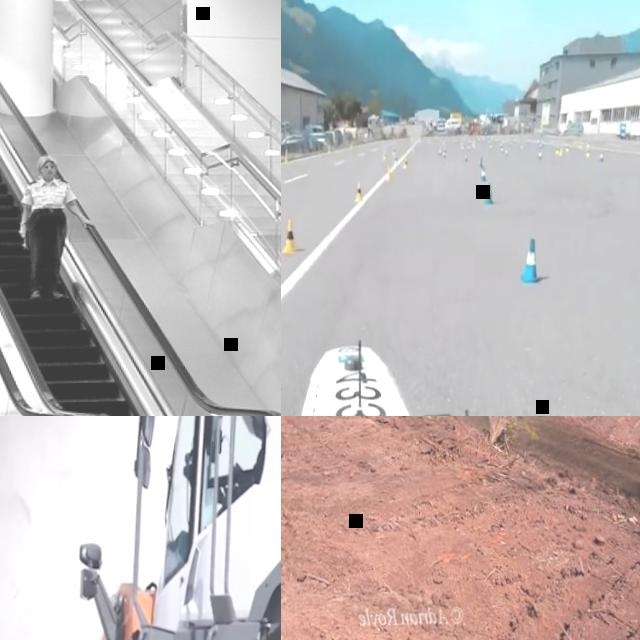NO-Hardhat: (37, 156, 57, 167)
NO-Mask: (42, 167, 56, 177)
NO-Safety Vest: (31, 179, 69, 210)
Person: (17, 154, 95, 301), (234, 416, 269, 486)
Safety Cone: (519, 235, 542, 285), (281, 213, 299, 255), (353, 180, 365, 205), (483, 180, 494, 206), (385, 163, 392, 183), (480, 166, 487, 181), (599, 150, 605, 165), (403, 156, 408, 171), (538, 150, 543, 164), (285, 146, 289, 163), (383, 148, 387, 162), (464, 152, 469, 163), (394, 154, 398, 167), (327, 143, 331, 155), (559, 149, 563, 159), (505, 150, 509, 160), (439, 145, 442, 157), (443, 148, 446, 160), (557, 145, 560, 156), (587, 149, 590, 159), (351, 141, 354, 149)
machinery: (0, 416, 281, 640)
